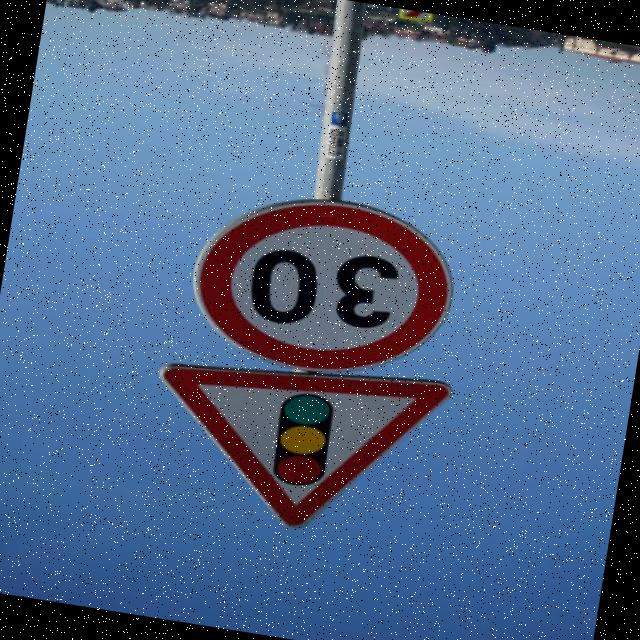light_traffic: (147, 359, 465, 537)
speed_limit_30: (181, 196, 471, 374)
